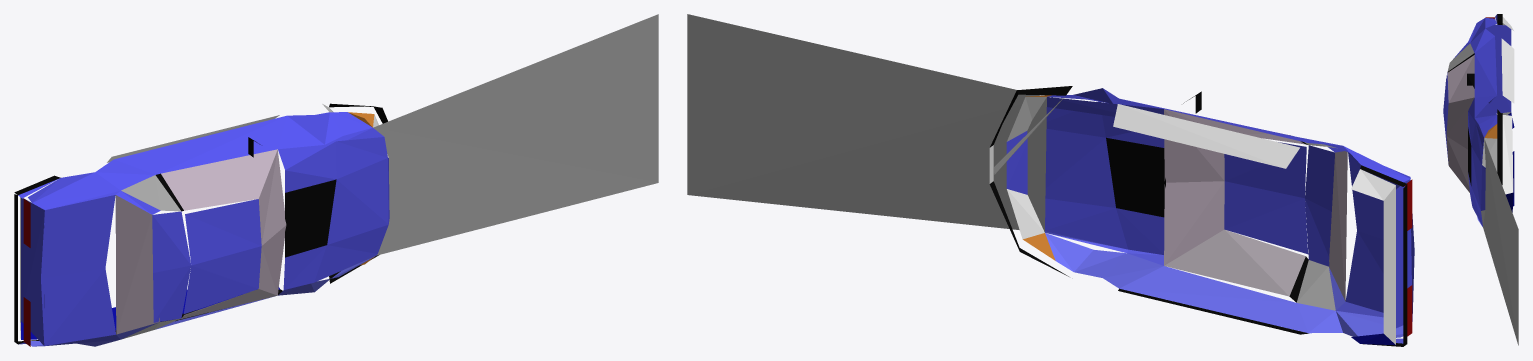
Rendered from objs2_37.obj.
3 views of the same model, side by side, from view 1: azimuth 30°, elevation 25°; view 2: azimuth 150°, elevation 25°; view 3: azimuth 270°, elevation 25° (orthographic). The views are drawn at different scales.
Visible parts, largest first — view 1: objs2_37; view 2: objs2_37; view 3: objs2_37.
Part boxes in pixels (x1,y1,x2,y2): objs2_37: (14, 14, 658, 346); objs2_37: (687, 14, 1414, 346); objs2_37: (1443, 14, 1518, 345).
Bounding box in the file's own units: 0.488 × 0.13 × 0.07.
